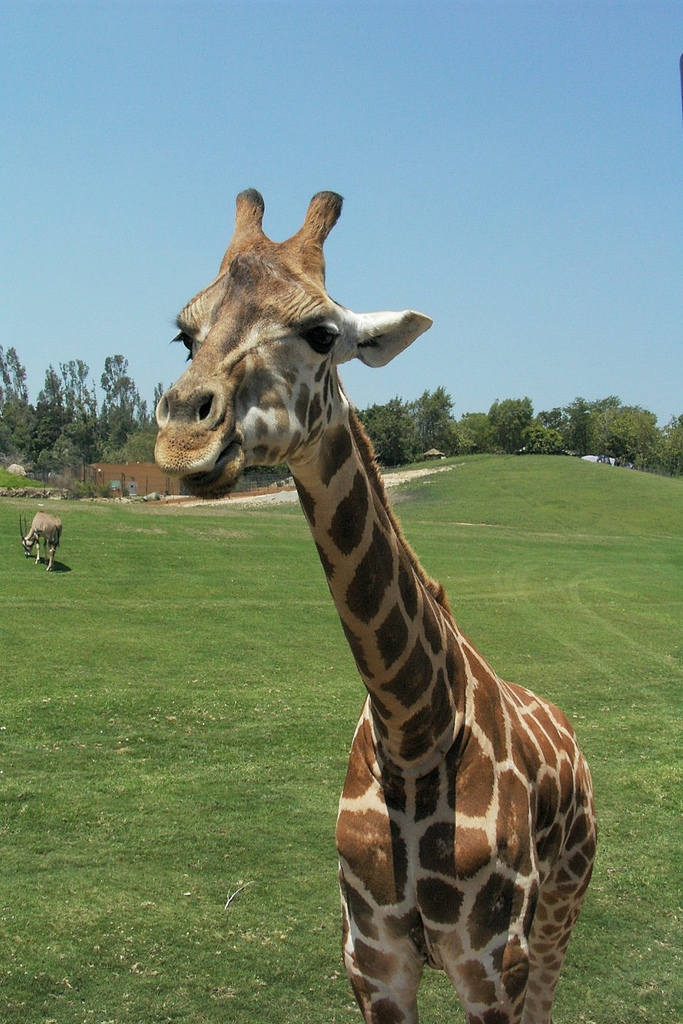giraffe: (147, 184, 638, 1008)
